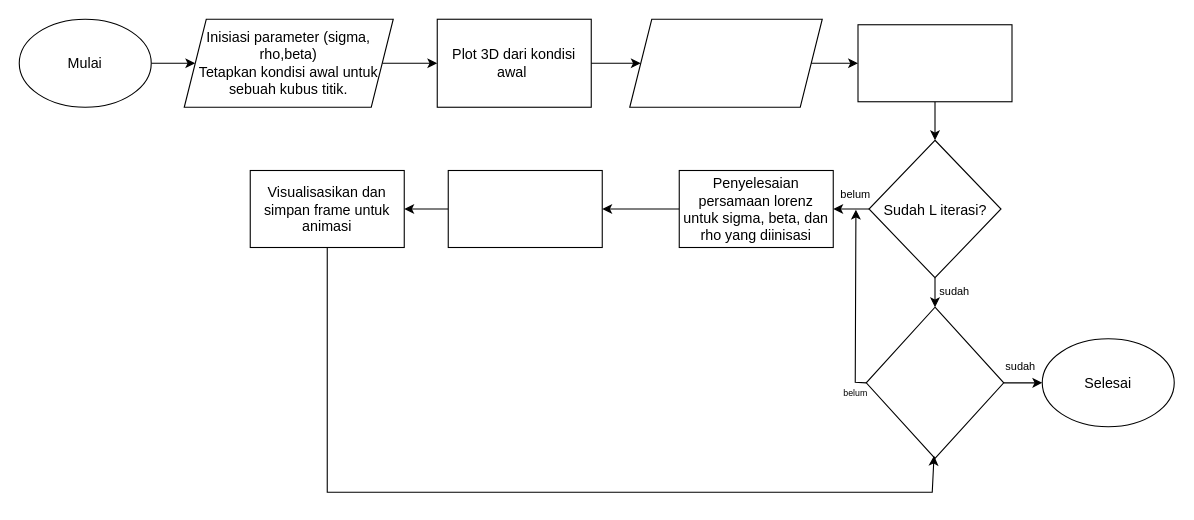
Image size: 1194x520. Some labels were removed from this diagram. The shapes that lost their labels are listed below. From the top down, each one's centre as x and y in pixels, then its label:
the point at 725,62: Inisiasi parameter waktu (dt, durasi, tspan)
the point at 934,63: L = durasi / tspan
the point at 524,208: Perbarui posisi partikel menggunakan metode Runge-Kutta orde 4
the point at 934,382: Sudah coba untuk sigma, beta, dan rho berbeda?
